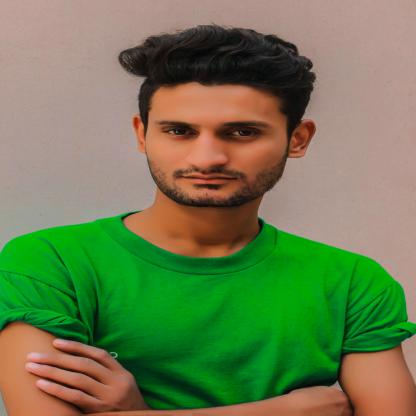Eye: (219, 126, 266, 141), (158, 127, 198, 141)
Mouth: (177, 173, 239, 188)
Nose: (184, 133, 231, 168)
